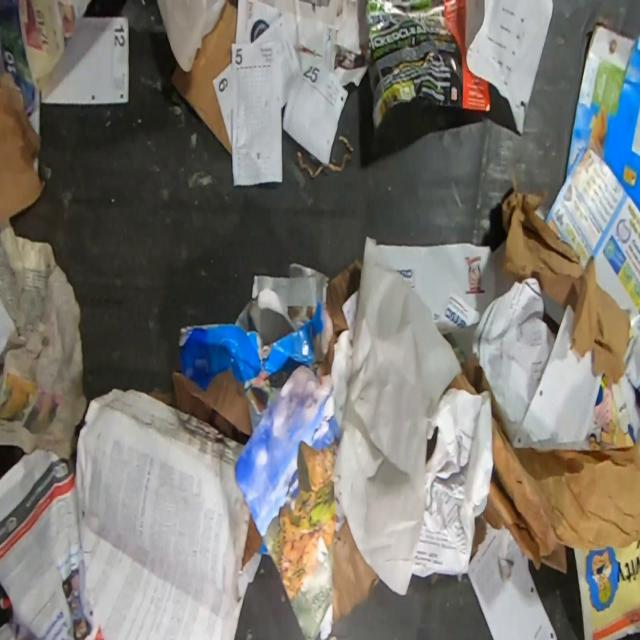cardboard: (150, 258, 380, 639), (565, 24, 640, 214), (171, 0, 237, 156), (0, 35, 45, 230)
